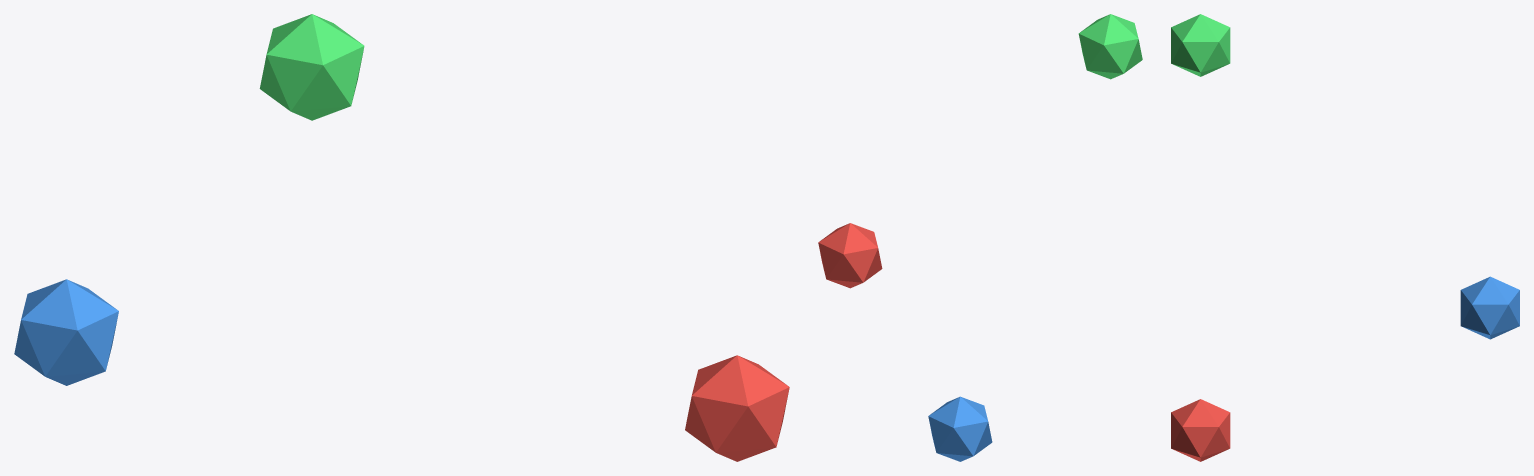
File: AxisProbe.fbx
3 renders of one model, left to right at view 1: azimuth 30°, elevation 25°; view 2: azimuth 150°, elevation 25°; view 3: azimuth 270°, elevation 25°, orthographic. The views are drawn at different scales.
Parts seen in each view (by area): view 1: Up, Right, Forward; view 2: Forward, Right, Up; view 3: Forward, Right, Up.
Boxes of the visible parts, x1=… form: Up: x1=259, y1=14, x2=364, y2=120; Right: x1=685, y1=355, x2=789, y2=461; Forward: x1=14, y1=279, x2=118, y2=385; Forward: x1=928, y1=396, x2=992, y2=461; Right: x1=818, y1=223, x2=882, y2=288; Up: x1=1078, y1=14, x2=1142, y2=79; Forward: x1=1460, y1=276, x2=1519, y2=339; Right: x1=1171, y1=399, x2=1230, y2=461; Up: x1=1171, y1=14, x2=1230, y2=76.
Bounding box in the file's own units: 1.21 × 1.24 × 1.2.
